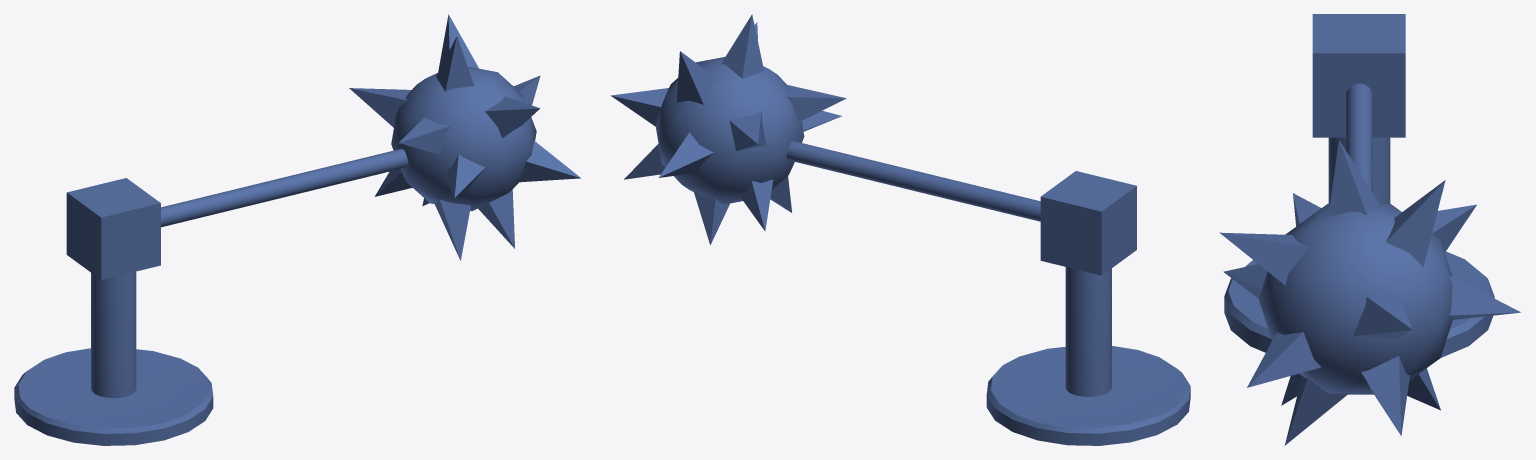
The model's file is Trap_Spinner_01.fbx.
3 renders of one model, left to right at view 1: azimuth 30°, elevation 25°; view 2: azimuth 150°, elevation 25°; view 3: azimuth 270°, elevation 25°, orthographic. The views are drawn at different scales.
Visible parts, largest first — view 1: Trap_Spinner_01; view 2: Trap_Spinner_01; view 3: Trap_Spinner_01.
Boxes of the visible parts, left/top/right/bottom form: Trap_Spinner_01: left=14, top=14, right=580, bottom=445; Trap_Spinner_01: left=610, top=14, right=1190, bottom=445; Trap_Spinner_01: left=1219, top=14, right=1520, bottom=445.
Bounding box in the file's own units: 242 × 134 × 87.9.
